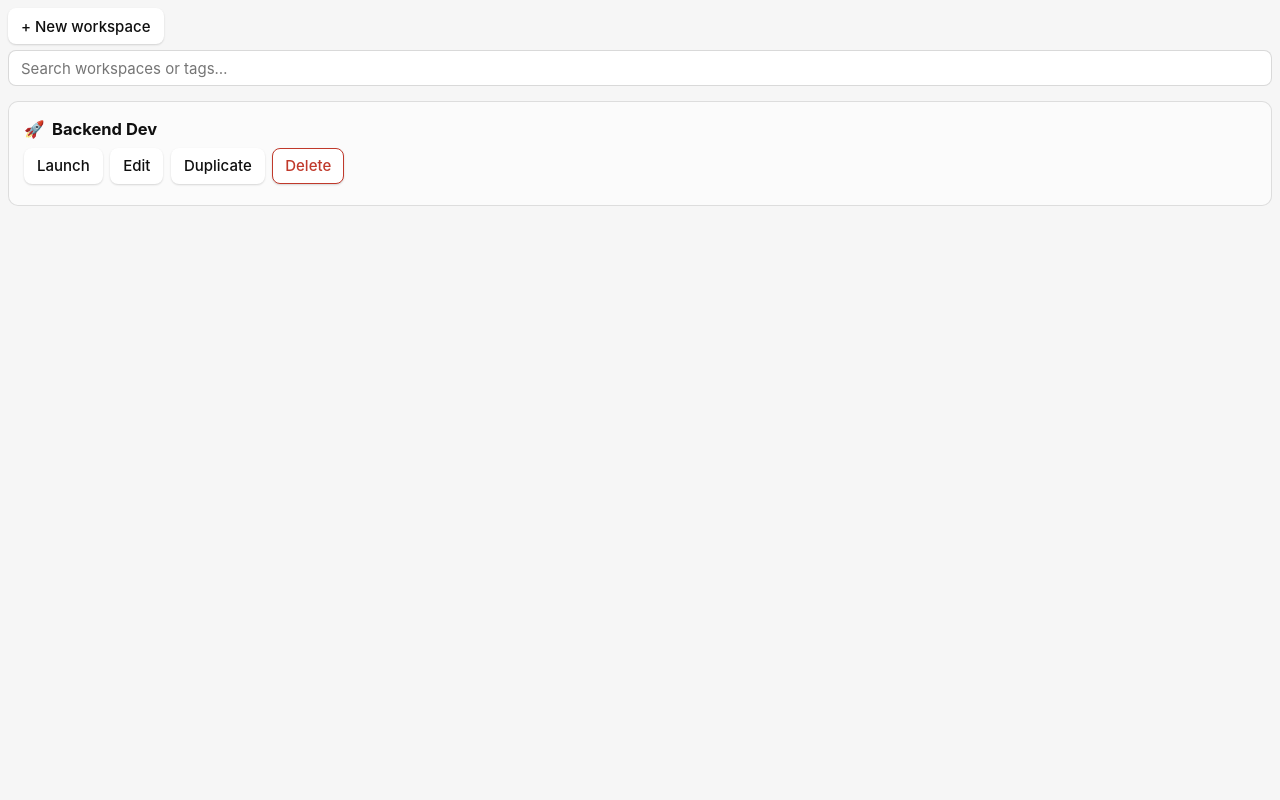
WorkspaceList › does not delete when Delete is clicked — it opens a confirmation instead
The width and height of the screenshot is (1280, 800).
Click the button "Delete". click: (308, 166)
box: [272, 148, 344, 184]
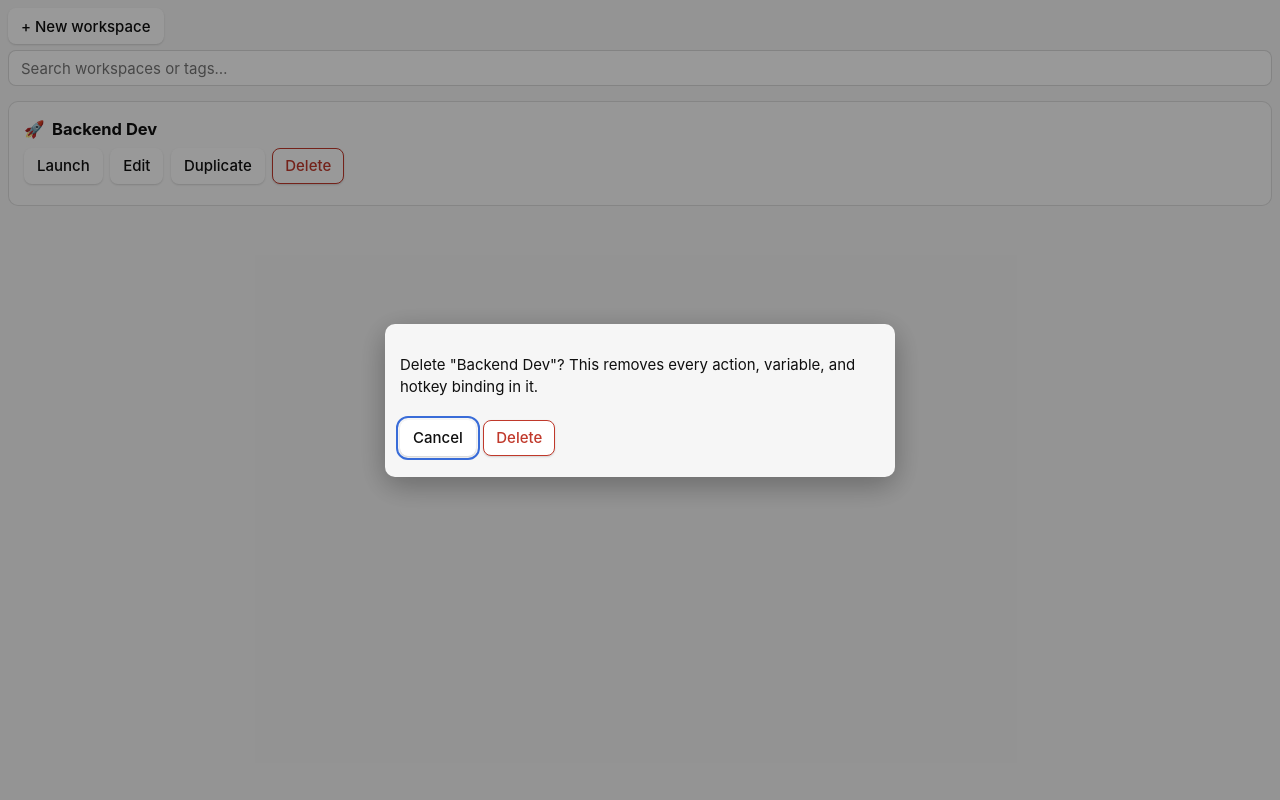
Expected: the dialog is shown, [385, 324, 895, 476]
Expected: the text "Delete \"Backend Dev\"?" is shown, [400, 354, 880, 398]
